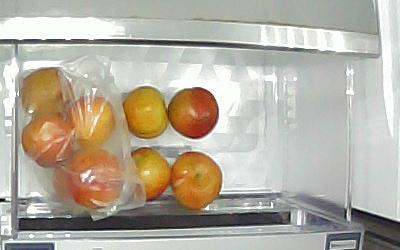prune: (171, 151, 223, 208), (169, 88, 219, 139), (121, 86, 169, 139), (131, 147, 170, 201)
prune_vinyl: (66, 148, 124, 209), (21, 115, 75, 168), (21, 66, 75, 117), (67, 96, 114, 150)
